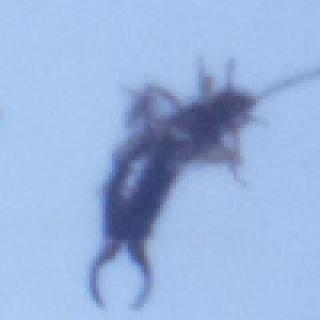earwig: (86, 48, 320, 310)
